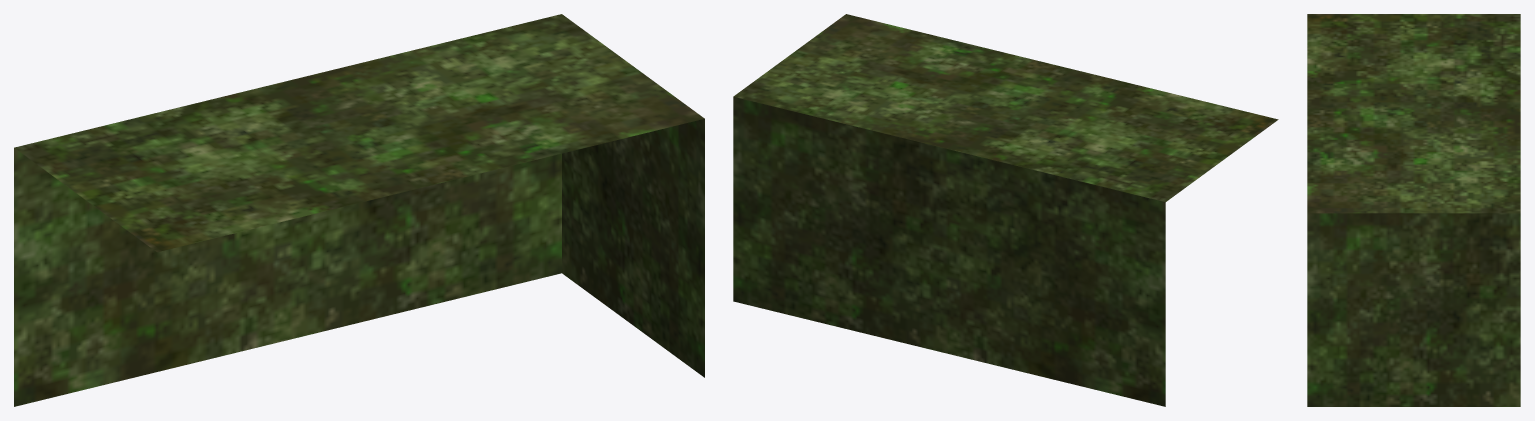
The model's file is OVERHILL_A_01_PLANE126.fbx.
3 renders of one model, left to right at view 1: azimuth 30°, elevation 25°; view 2: azimuth 150°, elevation 25°; view 3: azimuth 270°, elevation 25°, orthographic. The views are drawn at different scales.
Parts seen in each view (by area): view 1: OVERHILL_A_01_PLANE126; view 2: OVERHILL_A_01_PLANE126; view 3: OVERHILL_A_01_PLANE126.
Boxes of the visible parts, left/top/right/bottom form: OVERHILL_A_01_PLANE126: left=14, top=14, right=704, bottom=406; OVERHILL_A_01_PLANE126: left=733, top=14, right=1278, bottom=406; OVERHILL_A_01_PLANE126: left=1307, top=14, right=1520, bottom=406.
Bounding box in the file's own units: 31223 × 14121 × 14121.
Materials: 1 (1 with a texture image).
